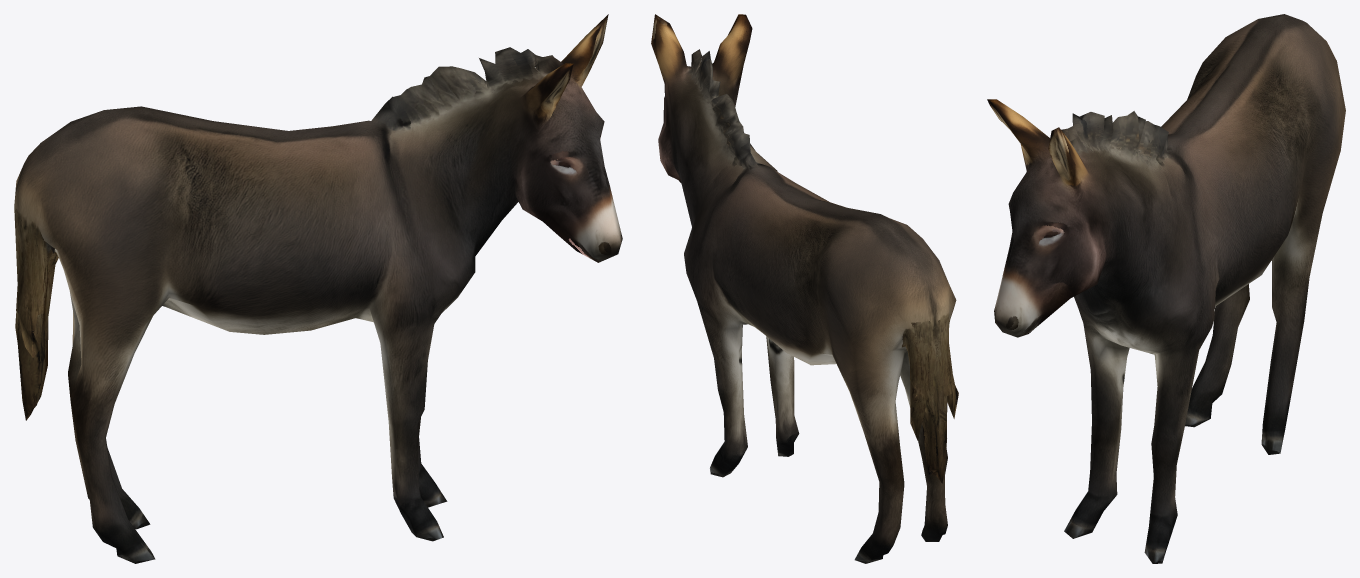
File: mule_single_1500.glb
The picture shows the model from 3 angles, left to right: view 1: azimuth 30°, elevation 25°; view 2: azimuth 150°, elevation 25°; view 3: azimuth 270°, elevation 25°; orthographic projection. The views are drawn at different scales.
Size of the model in its own units: 0.7995 by 0.8028 by 0.5221.
1 material, 1 textured.
